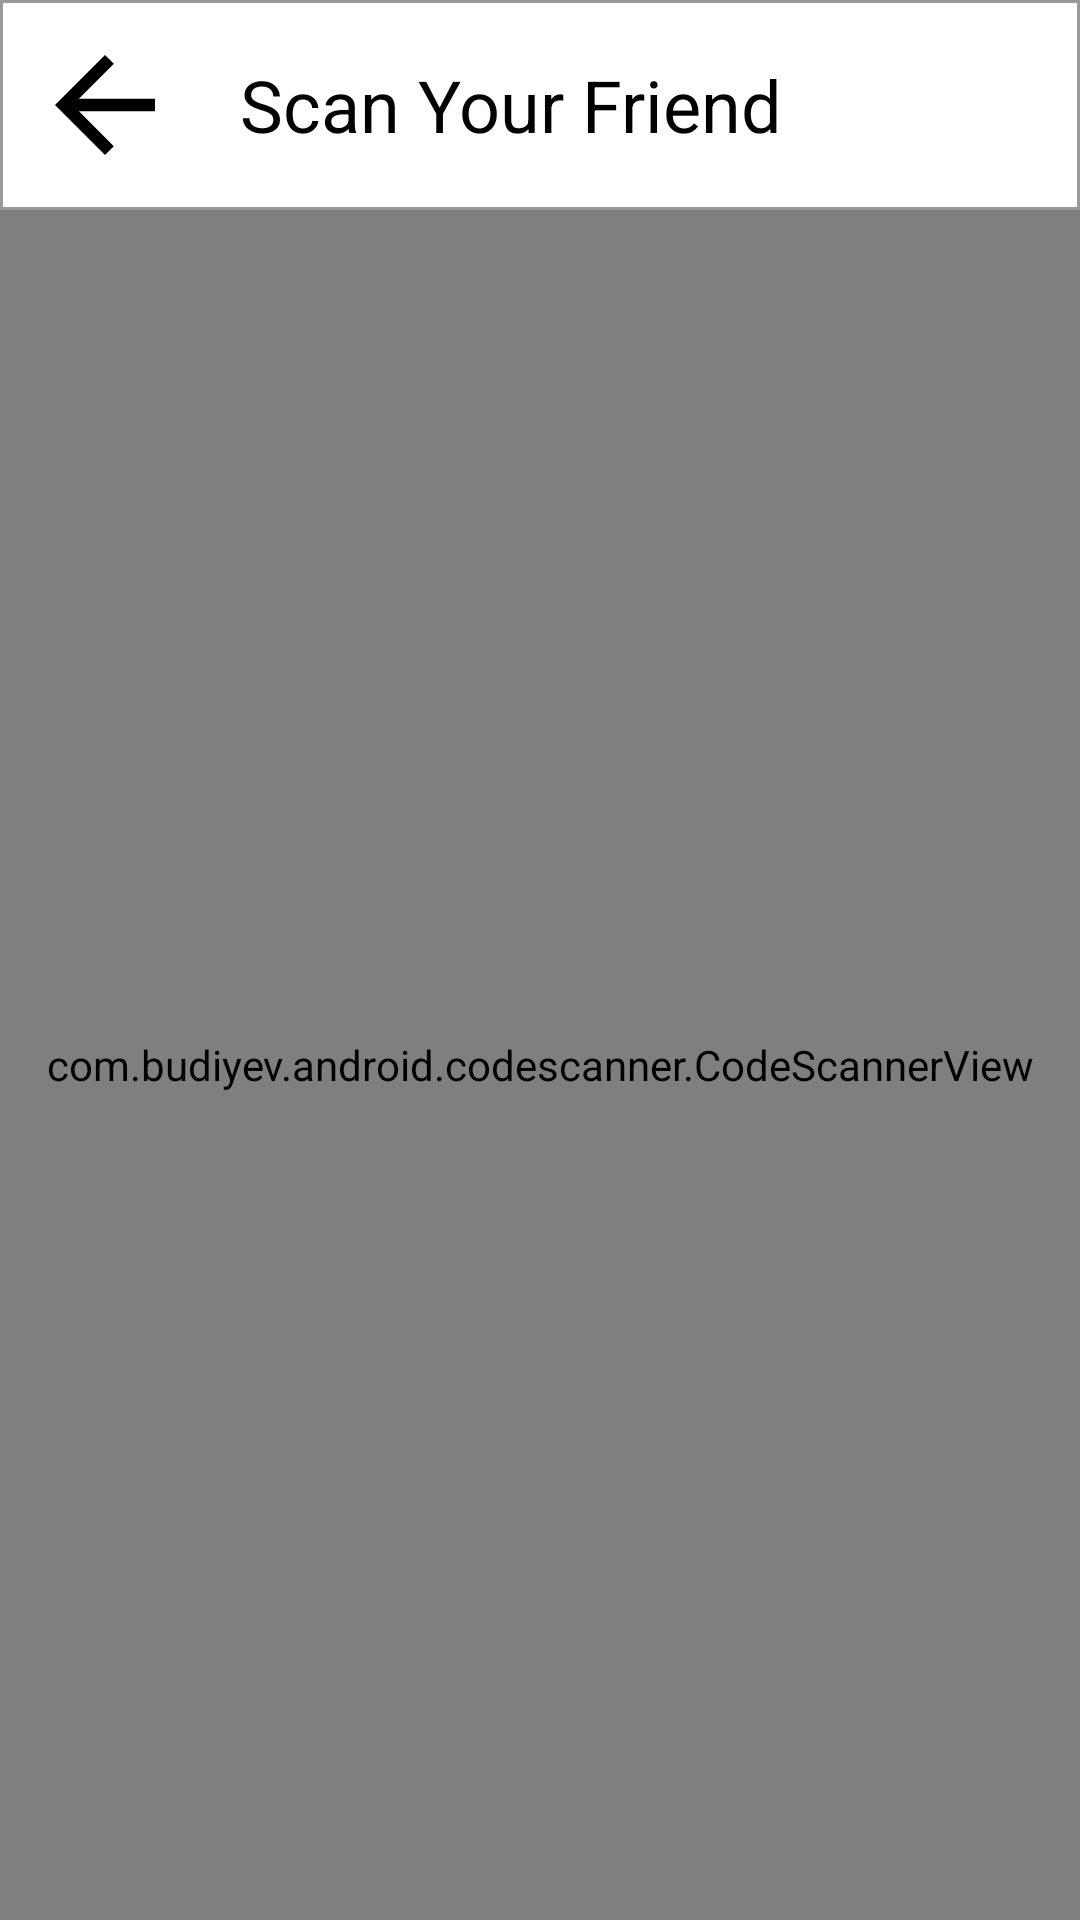

Point at icon controls on the screen. Image size 1080×1920, points as point (x, y).
return arrow: point (105, 105)
